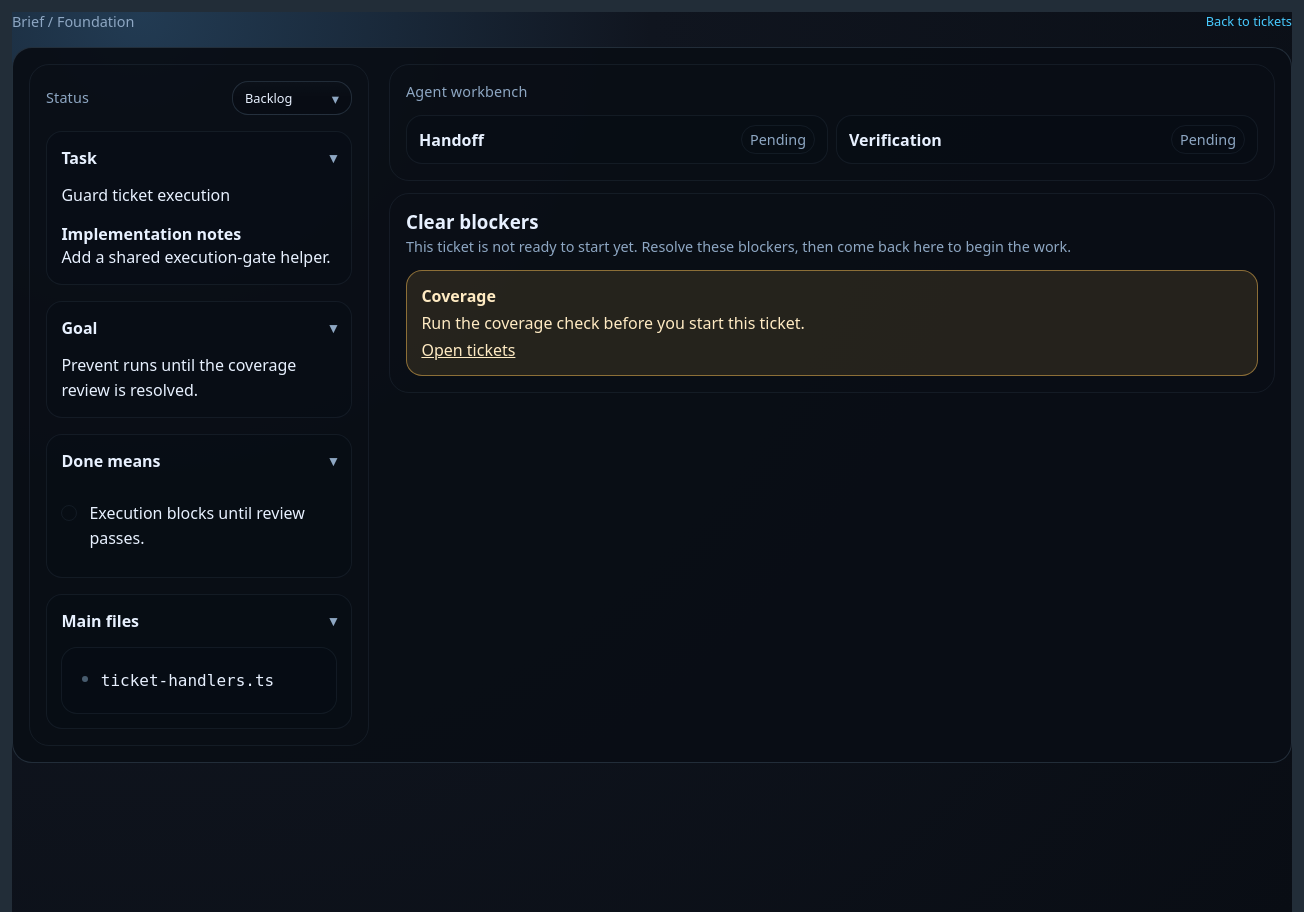
Test: TicketView › hides execution statuses in the header control when the coverage review is unresolved
Click the button with aria-label "Ticket status".
click(292, 98)  # box [232,81,352,115]
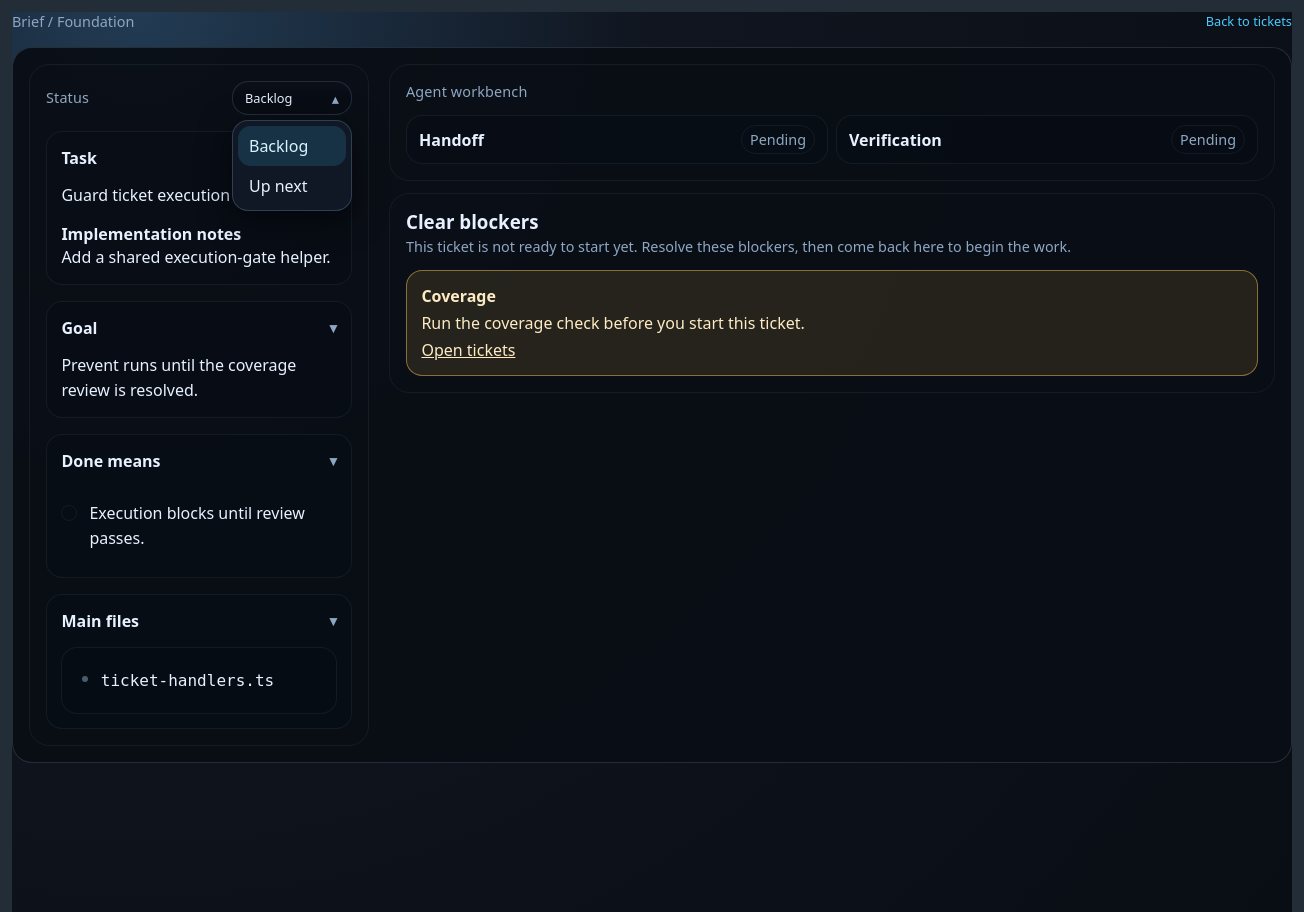
Expected: the option "Backlog" is shown, [238,126,346,166]
Expected: the option "Up next" is shown, [249,175,308,197]
